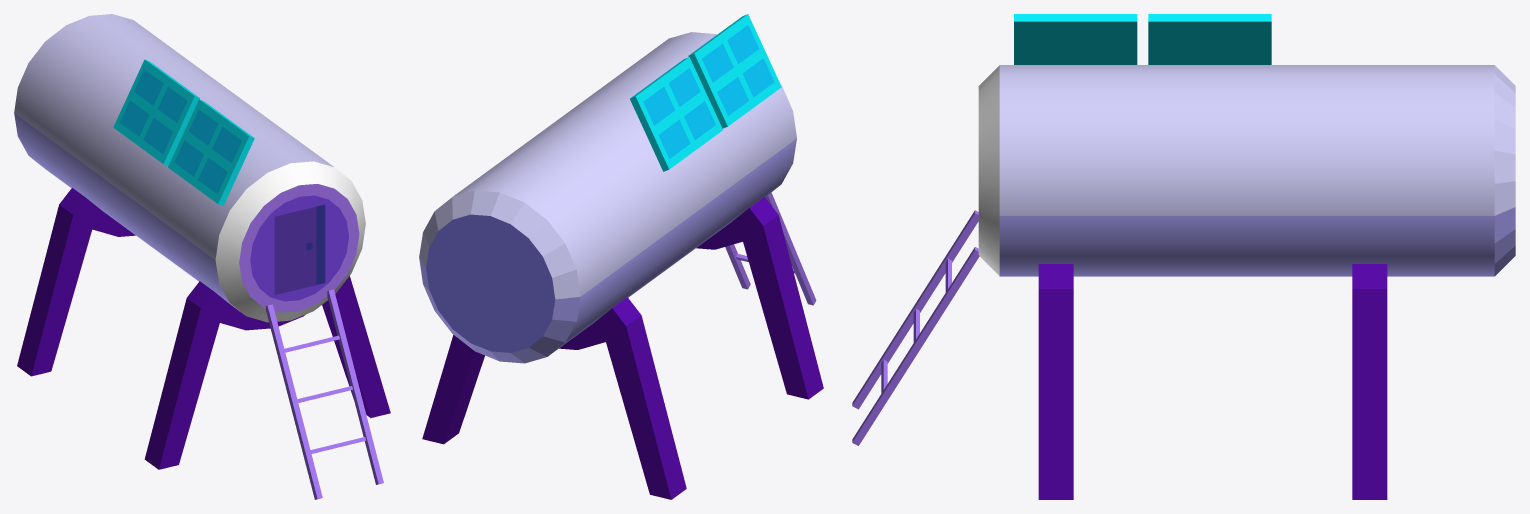
The model's file is Building_017_c.fbx.
3 renders of one model, left to right at view 1: azimuth 30°, elevation 25°; view 2: azimuth 150°, elevation 25°; view 3: azimuth 270°, elevation 25°, orthographic. The views are drawn at different scales.
Visible parts, largest first — view 1: Building_017_c; view 2: Building_017_c; view 3: Building_017_c.
Part boxes in pixels (x1,y1,x2,y2): Building_017_c: [14, 14, 390, 499]; Building_017_c: [419, 14, 823, 499]; Building_017_c: [852, 14, 1515, 499].
Size of the model in its own units: 8.79 by 11.64 by 17.72.
